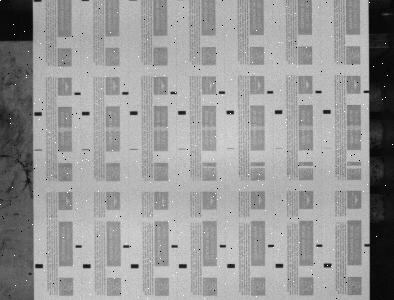backgroundclutter: (28, 272, 32, 275)
incorrect qblock: (34, 149, 42, 151), (82, 148, 90, 150)
qblock: (178, 110, 186, 115), (227, 263, 235, 268), (276, 263, 284, 268), (130, 111, 138, 115), (82, 111, 90, 115), (275, 110, 283, 114), (83, 264, 91, 268), (34, 112, 42, 116), (323, 110, 331, 114), (131, 264, 139, 268), (179, 264, 187, 268), (35, 264, 43, 268), (324, 263, 332, 267), (227, 110, 234, 114)
smallqblock: (219, 91, 226, 94), (267, 91, 274, 94), (122, 92, 129, 95), (171, 245, 178, 248), (123, 245, 130, 248), (74, 92, 81, 95), (315, 90, 322, 93), (268, 244, 275, 247), (75, 245, 82, 248), (316, 244, 323, 247), (220, 244, 226, 247), (171, 91, 177, 94), (364, 90, 370, 93), (365, 243, 371, 246)
